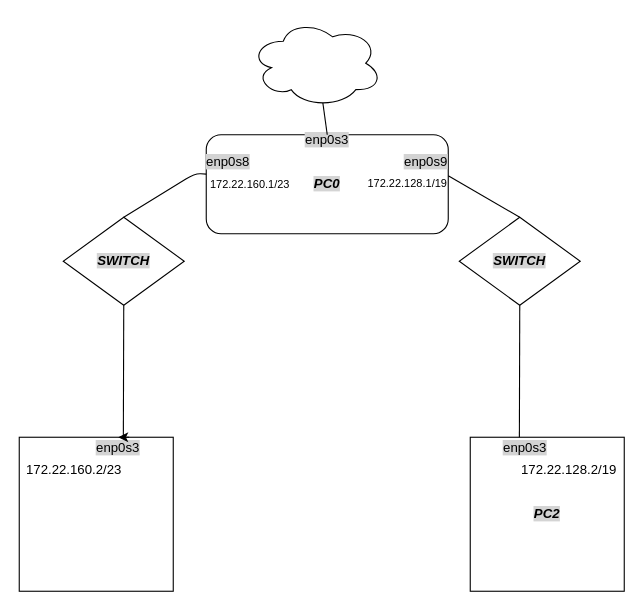
Image size: 644x611. Some labels were removed from this diagram. Here are the shapes that lost their labels. From the top down, the box of each, then its label:
(249, 18, 382, 107): INTERNET
(18, 436, 173, 591): PC1
